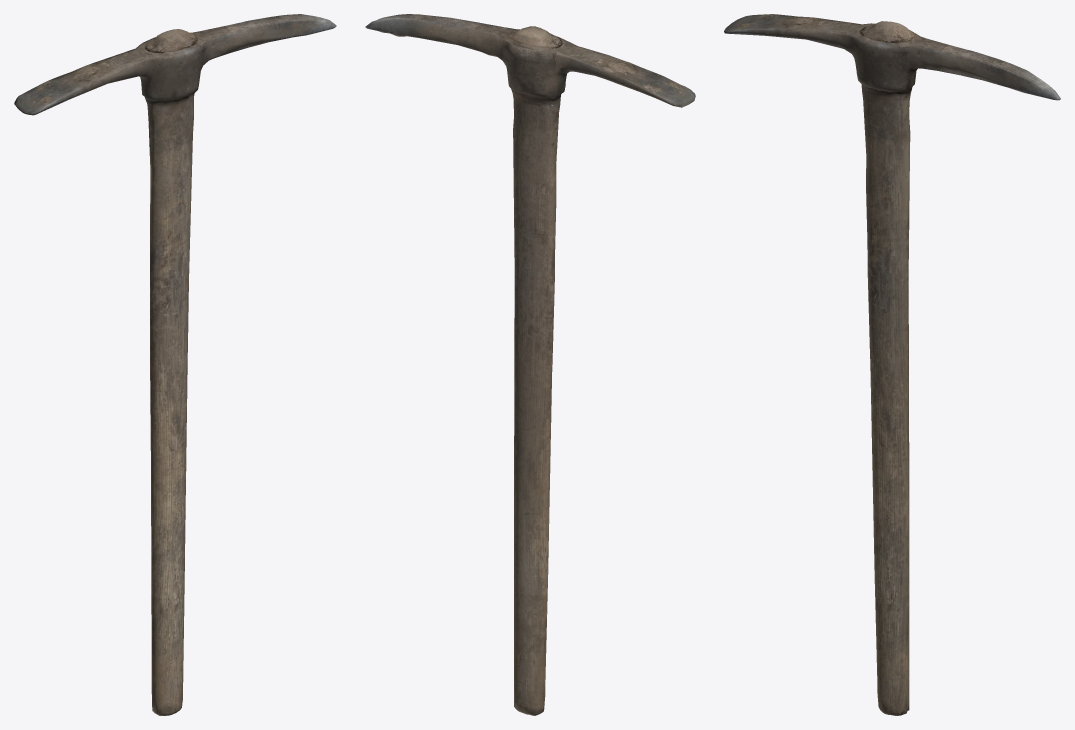
The model's file is pick.glb.
3 renders of one model, left to right at view 1: azimuth 30°, elevation 25°; view 2: azimuth 150°, elevation 25°; view 3: azimuth 330°, elevation 25°, orthographic.
Visible parts, largest first — view 1: picke_dirty_01; view 2: picke_dirty_01; view 3: picke_dirty_01.
Part boxes in pixels (x1=…): picke_dirty_01: x1=14, y1=14, x2=336, y2=715; picke_dirty_01: x1=365, y1=14, x2=695, y2=715; picke_dirty_01: x1=724, y1=14, x2=1060, y2=715.
Bounding box in the file's own units: 0.5497 × 1.12 × 0.0686.
1 material, 1 textured.
